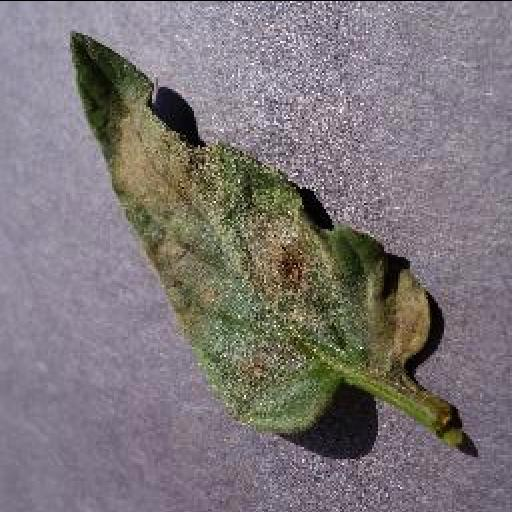disease_tomato: (64, 30, 430, 432)
